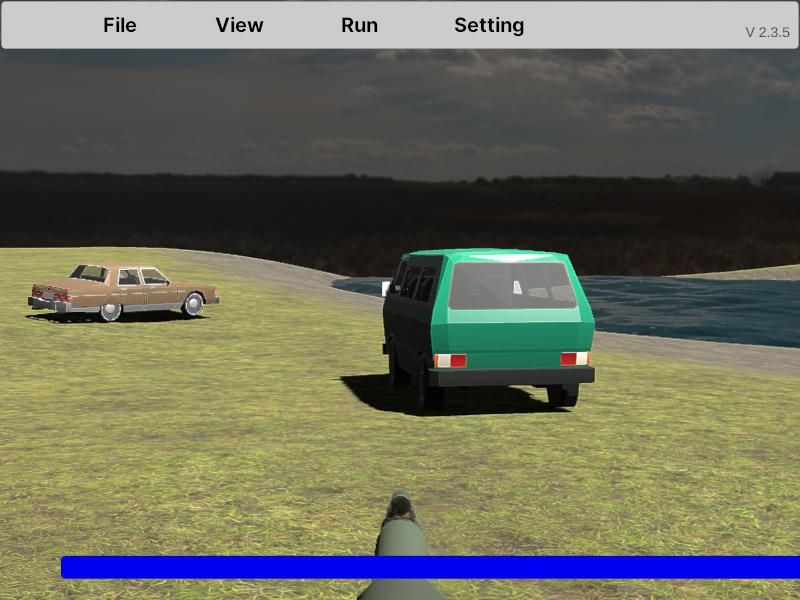car: (381, 246, 596, 413), (28, 264, 221, 324)
